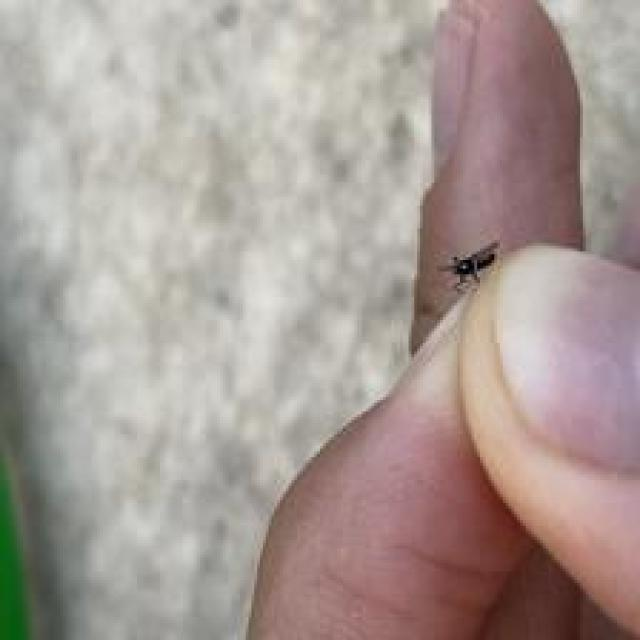Aedes albopictus: (437, 238, 500, 296)
